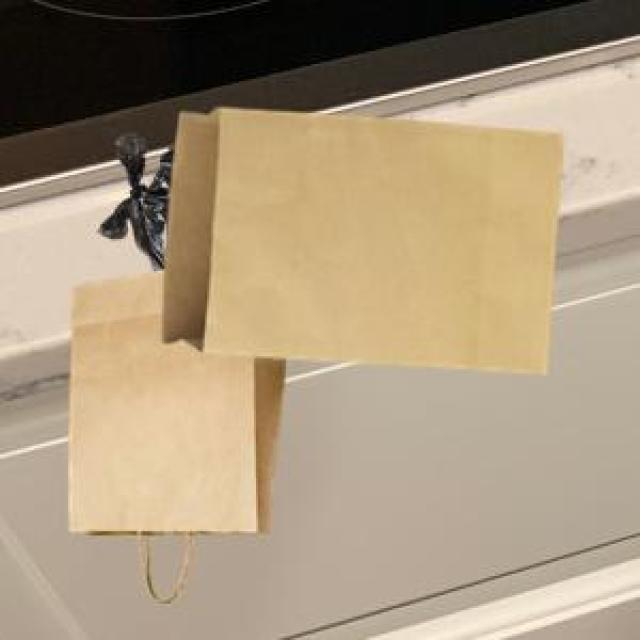miscellaneous trash: (94, 130, 173, 267)
paper: (158, 105, 559, 369), (64, 267, 282, 600)
